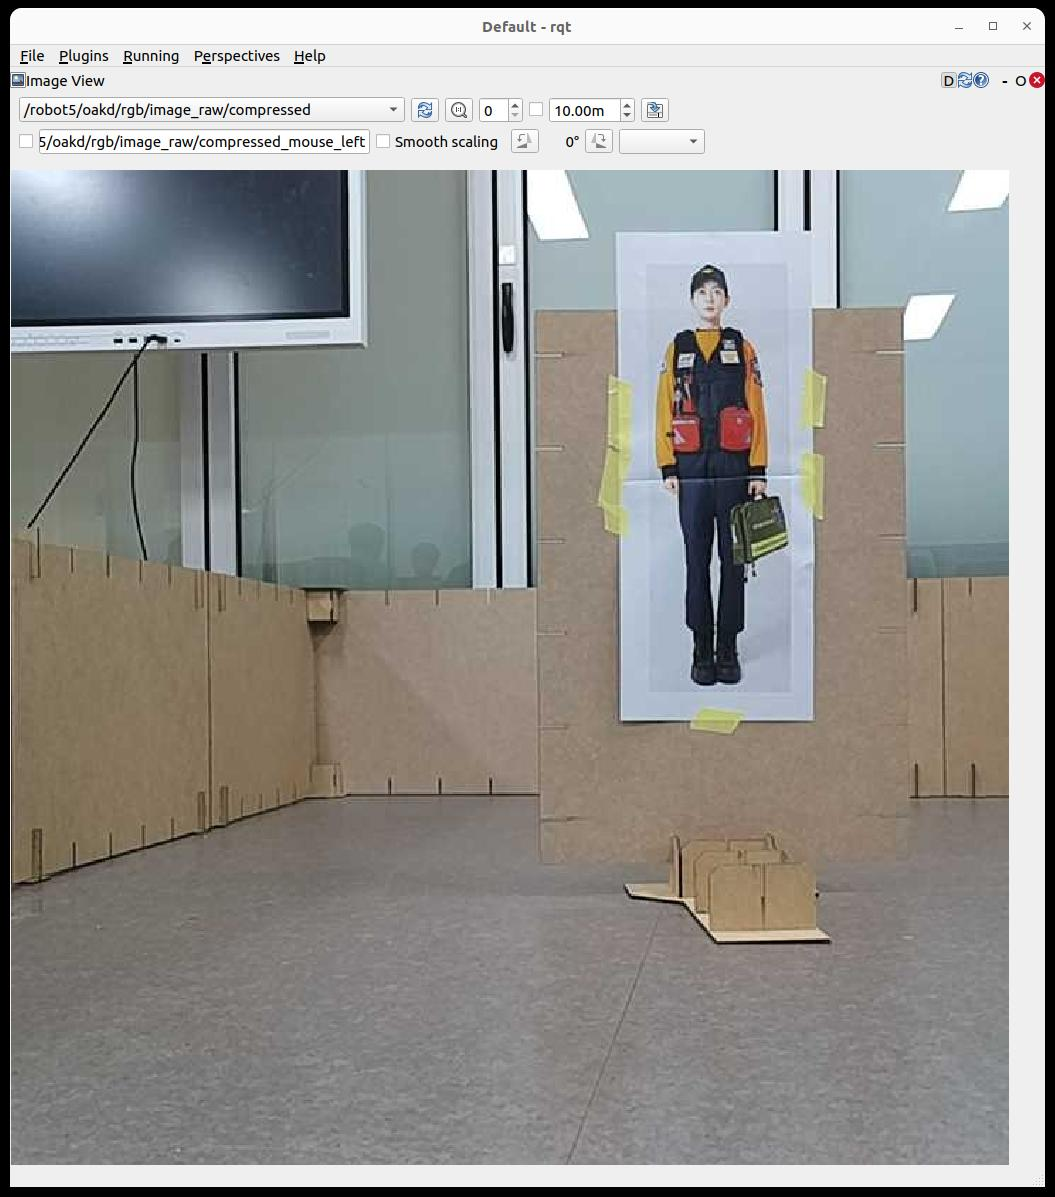Responder: (657, 265, 788, 685)
